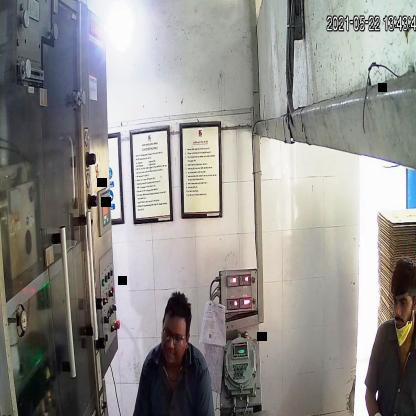goggles: (160, 324, 188, 349)
no_goggles: (391, 292, 413, 311)
